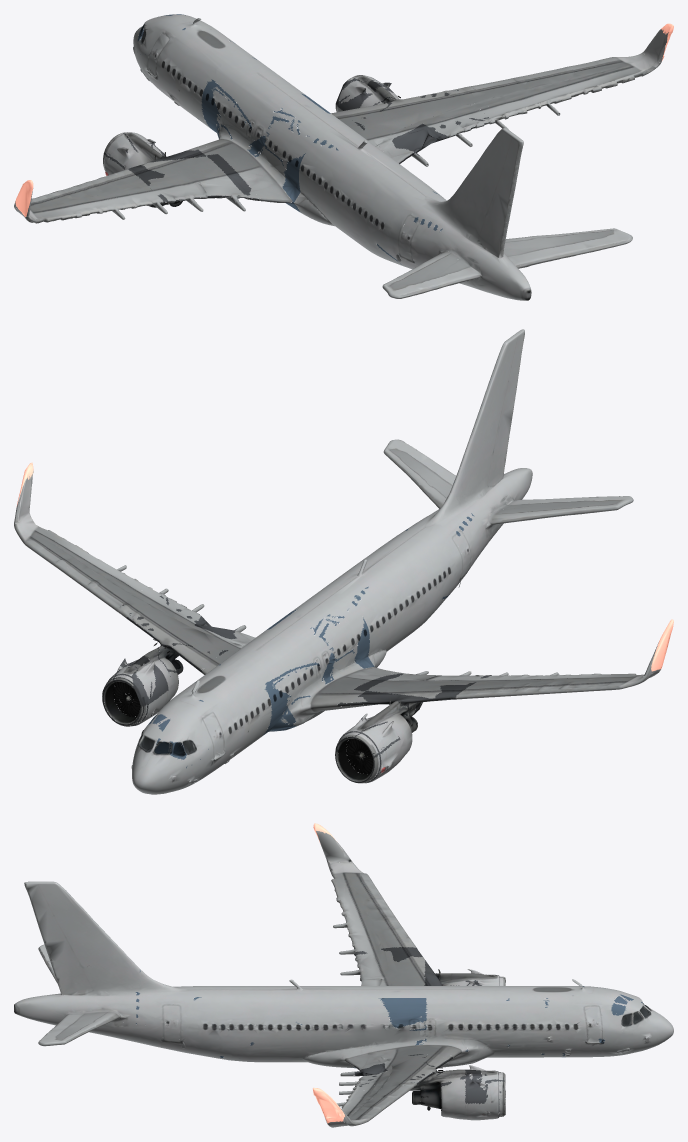
The model's file is aircraft-lod1.glb.
3 renders of one model, top to bottom at view 1: azimuth 30°, elevation 25°; view 2: azimuth 150°, elevation 25°; view 3: azimuth 270°, elevation 25°, orthographic. The views are drawn at different scales.
Parts seen in each view (by area): view 1: lod1; view 2: lod1; view 3: lod1.
Boxes of the visible parts, <box> form: lod1: <box>14,14,673,300</box>; lod1: <box>14,329,673,794</box>; lod1: <box>14,823,673,1127</box>.
Bounding box in the file's own units: 35.8 × 11.76 × 37.57.
Materials: 11 (11 with a texture image).
